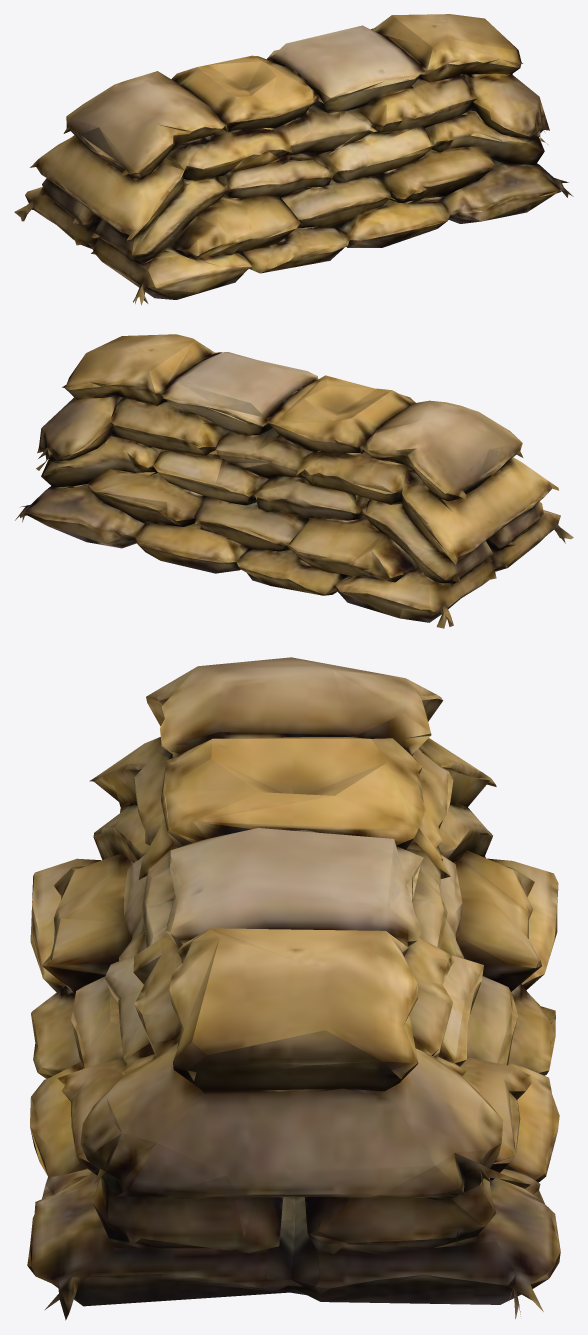
File: sandbag_wall.glb
3 views of the same model, one above another, from view 1: azimuth 30°, elevation 25°; view 2: azimuth 150°, elevation 25°; view 3: azimuth 270°, elevation 25° (orthographic). The views are drawn at different scales.
Visible parts, largest first — view 1: model; view 2: model; view 3: model.
Part boxes in pixels (x1,y1,x2,y2): model: [14, 14, 573, 305]; model: [15, 334, 573, 628]; model: [27, 657, 560, 1320].
Bounding box in the file's own units: 1.91 × 0.6399 × 0.9932.
1 material, 1 textured.
